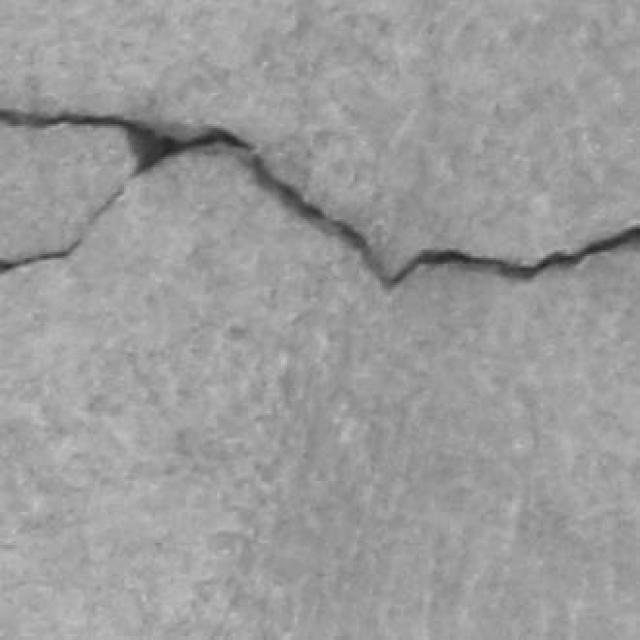crack: (0, 109, 639, 288)
